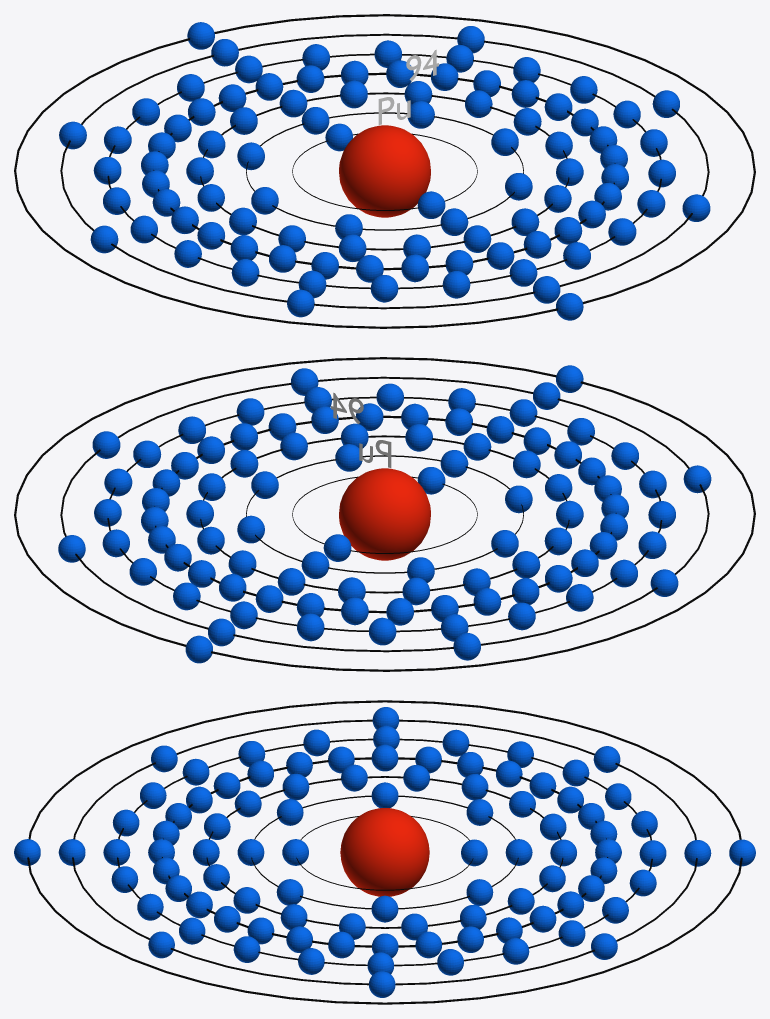
3 renders of one model, top to bottom at view 1: azimuth 30°, elevation 25°; view 2: azimuth 150°, elevation 25°; view 3: azimuth 270°, elevation 25°, orthographic. The views are drawn at different scales.
Parts seen in each view (by area): view 1: Pu4, Pu5, Pu3, Proton, Pu6, Pu2, n7, n6, n5, Pu7, Pu1, n3 (+2 smaller); view 2: Pu4, Pu5, Pu3, Proton, Pu6, Pu2, n7, n6, n5, Pu7, Pu1, n3 (+2 smaller); view 3: Pu4, Pu5, Pu3, Proton, Pu2, Pu6, n7, n6, n5, Pu1, Pu7, n3 (+2 smaller).
Boxes of the visible parts, x1=… form: Pu4: x1=141, y1=60, x2=628, y2=282; Pu5: x1=93, y1=40, x2=675, y2=302; Pu3: x1=186, y1=80, x2=583, y2=261; Proton: x1=339, y1=125, x2=430, y2=217; Pu6: x1=59, y1=26, x2=710, y2=317; Pu2: x1=237, y1=101, x2=532, y2=239; n7: x1=14, y1=14, x2=755, y2=328; n6: x1=60, y1=33, x2=709, y2=309; n5: x1=107, y1=53, x2=661, y2=289; Pu7: x1=187, y1=22, x2=583, y2=320; Pu1: x1=325, y1=123, x2=445, y2=218; n3: x1=200, y1=92, x2=569, y2=250; Pu4: x1=141, y1=403, x2=628, y2=625; Pu5: x1=94, y1=383, x2=675, y2=645; Pu3: x1=186, y1=423, x2=583, y2=605; Proton: x1=339, y1=468, x2=430, y2=560; Pu6: x1=58, y1=368, x2=711, y2=660; Pu2: x1=237, y1=444, x2=532, y2=582; n7: x1=14, y1=357, x2=755, y2=671; n6: x1=60, y1=376, x2=709, y2=652; n5: x1=107, y1=396, x2=662, y2=632; Pu7: x1=185, y1=365, x2=583, y2=663; Pu1: x1=323, y1=467, x2=445, y2=561; n3: x1=200, y1=435, x2=569, y2=593; Pu4: x1=148, y1=744, x2=621, y2=958; Pu5: x1=103, y1=725, x2=666, y2=975; Pu3: x1=193, y1=764, x2=576, y2=940; Proton: x1=340, y1=808, x2=429, y2=896; Pu2: x1=237, y1=782, x2=532, y2=922; Pu6: x1=58, y1=707, x2=711, y2=997; n7: x1=27, y1=700, x2=742, y2=1004; n6: x1=72, y1=719, x2=697, y2=985; n5: x1=117, y1=738, x2=652, y2=966; Pu1: x1=282, y1=839, x2=487, y2=866; Pu7: x1=14, y1=839, x2=755, y2=866; n3: x1=206, y1=776, x2=563, y2=928.
Bounding box in the file's own units: 802 × 180 × 830.
